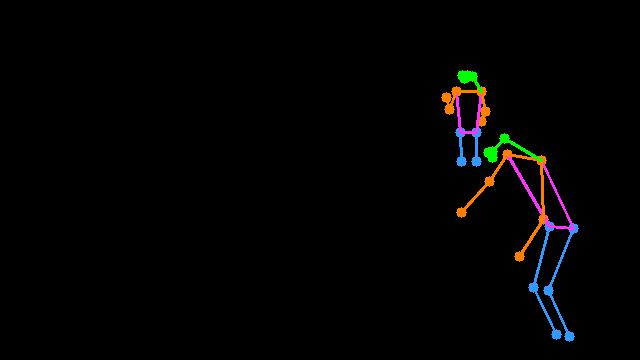normal: (450, 131, 598, 348), (435, 66, 492, 172)
